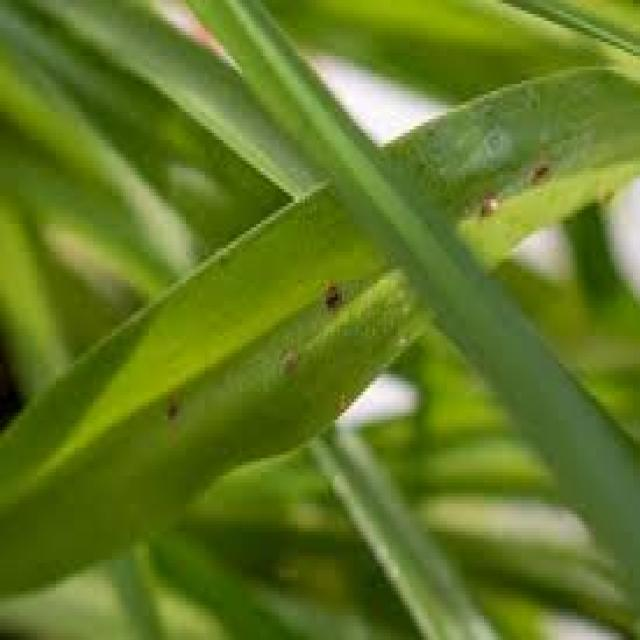scale_insect: (519, 143, 552, 189), (270, 336, 303, 381), (156, 384, 184, 434), (472, 178, 503, 220), (319, 273, 340, 308)
